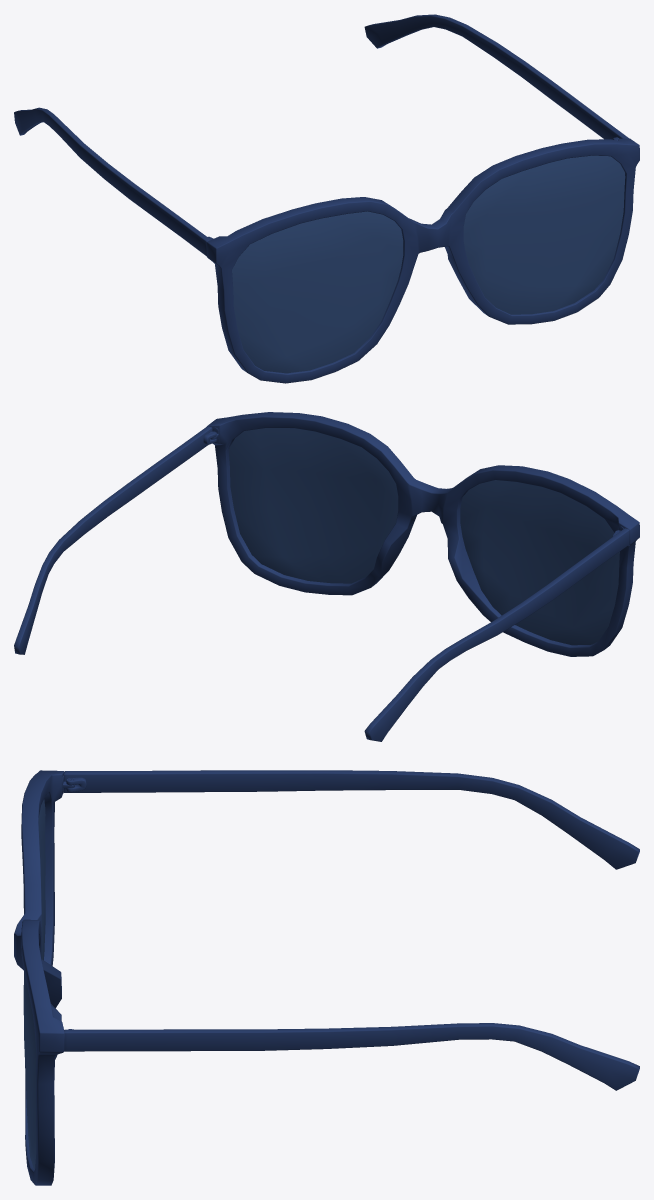
Rendered from sport-wrap-gece-mavisi.glb.
3 views of the same model, one above another, from view 1: azimuth 30°, elevation 25°; view 2: azimuth 150°, elevation 25°; view 3: azimuth 270°, elevation 25° (orthographic). The views are drawn at different scales.
Parts seen in each view (by area): view 1: OPTIK_PRODUCT_258; view 2: OPTIK_PRODUCT_258; view 3: OPTIK_PRODUCT_258.
Boxes of the visible parts, x1,y1,x2,y2 form: OPTIK_PRODUCT_258: (14, 14, 639, 383); OPTIK_PRODUCT_258: (14, 412, 639, 741); OPTIK_PRODUCT_258: (14, 770, 639, 1185).
Size of the model in its own units: 0.1527 by 0.0593 by 0.1539.
